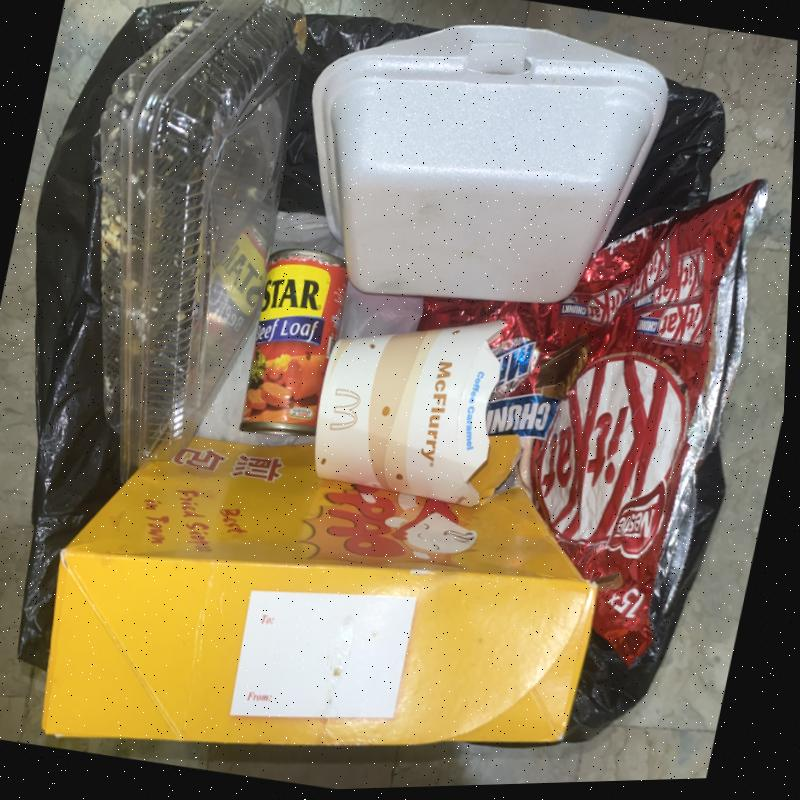aluminum: (238, 249, 347, 436)
cardboard: (37, 435, 595, 750), (312, 320, 504, 507)
food wrapper: (414, 179, 766, 669)
plastic container: (95, 0, 304, 485)
styrofoam containers: (308, 23, 667, 304)
